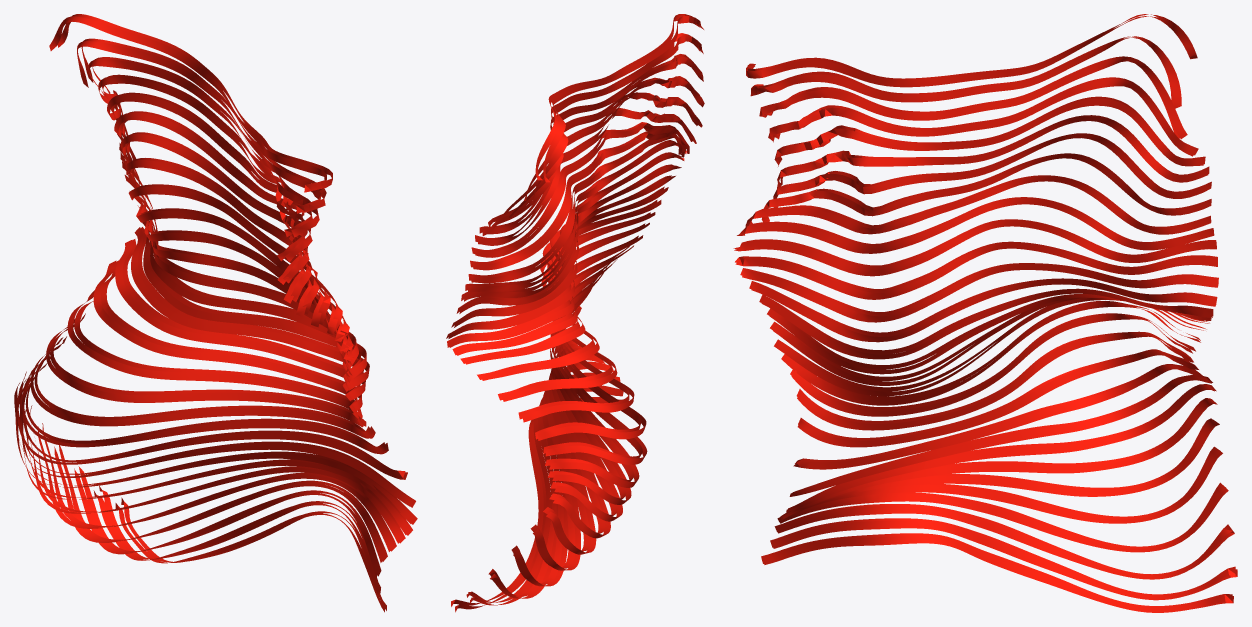
The picture shows the model from 3 angles, left to right: view 1: azimuth 30°, elevation 25°; view 2: azimuth 150°, elevation 25°; view 3: azimuth 270°, elevation 25°; orthographic projection. The views are drawn at different scales.
Visible parts, largest first — view 1: yy; view 2: yy; view 3: yy.
Boxes of the visible parts, box(x1,y1,x2,y2) form: yy: box(14, 14, 417, 612); yy: box(446, 14, 704, 612); yy: box(733, 14, 1237, 612).
Bounding box in the file's own units: 1.03 × 2.36 × 1.91.
